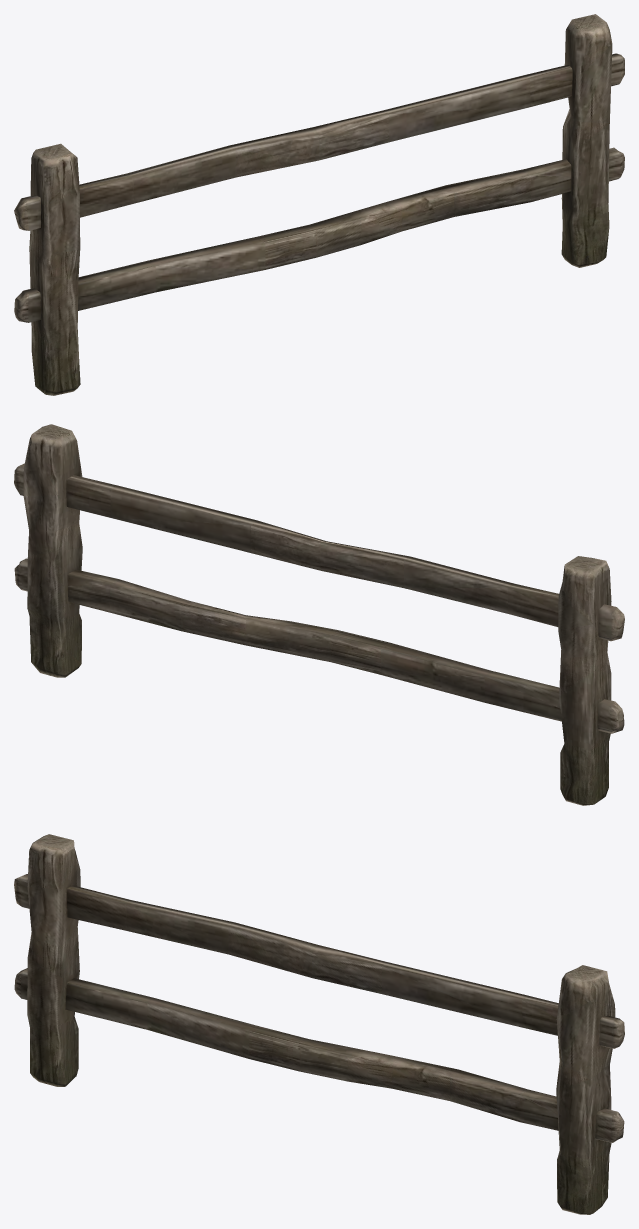
File: fence.glb
3 views of the same model, one above another, from view 1: azimuth 30°, elevation 25°; view 2: azimuth 150°, elevation 25°; view 3: azimuth 330°, elevation 25° (orthographic).
Size of the model in its own units: 0.9556 by 0.3579 by 0.0576.
1 material, 1 textured.
